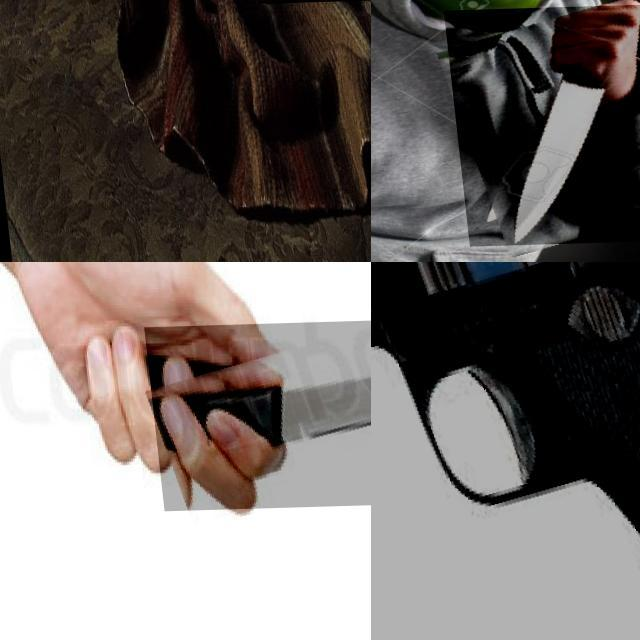-: (437, 7, 640, 248), (137, 320, 371, 512)
gun-knife-thesis - v11 Yolov5 augmented: (371, 262, 640, 640), (240, 0, 366, 59)
